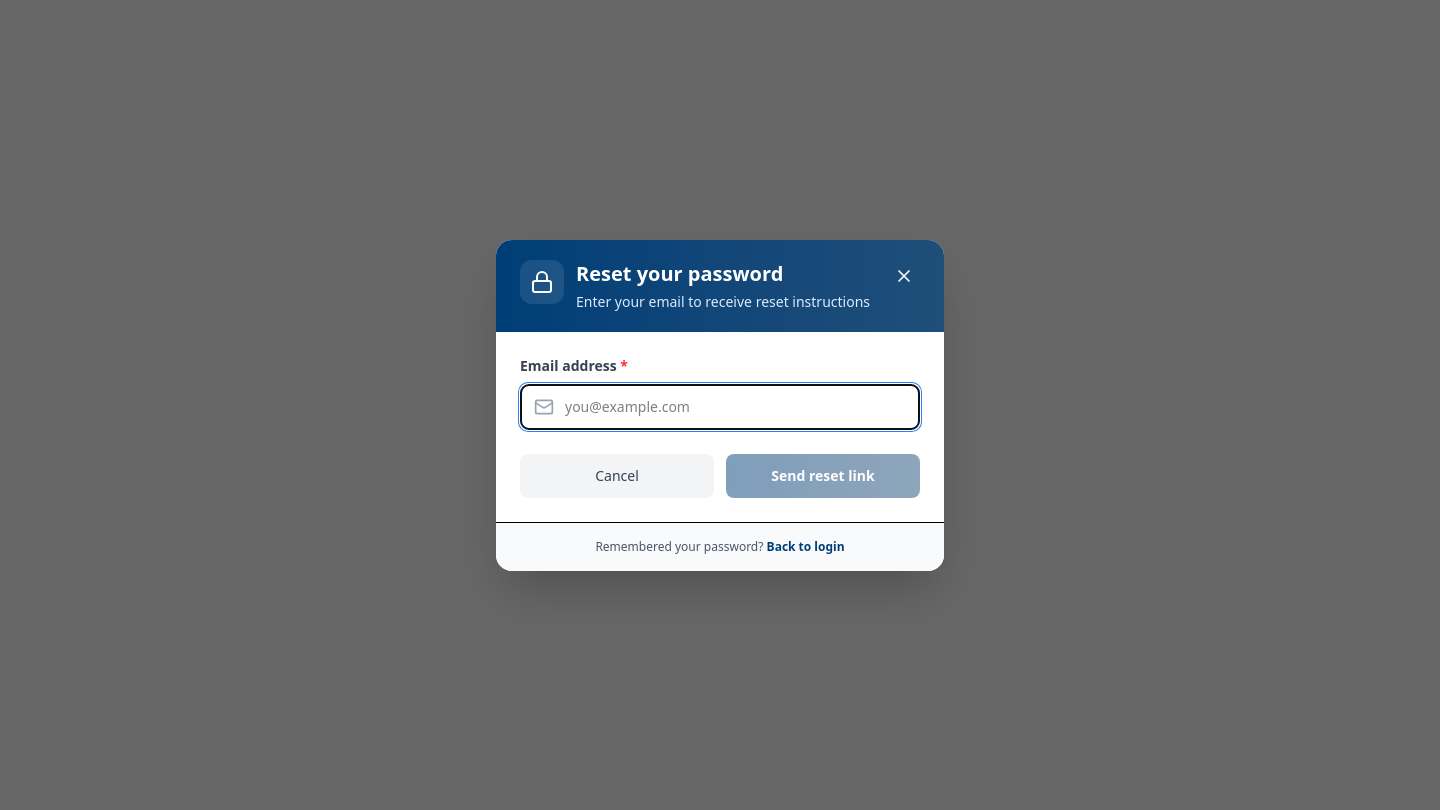
Test: shows error message when API fails
Type "bad@sdsync.com" into the field with placeholder "you@example.com".
click(720, 406); type("bad@sdsync.com")  # box left=520, top=384, right=920, bottom=430
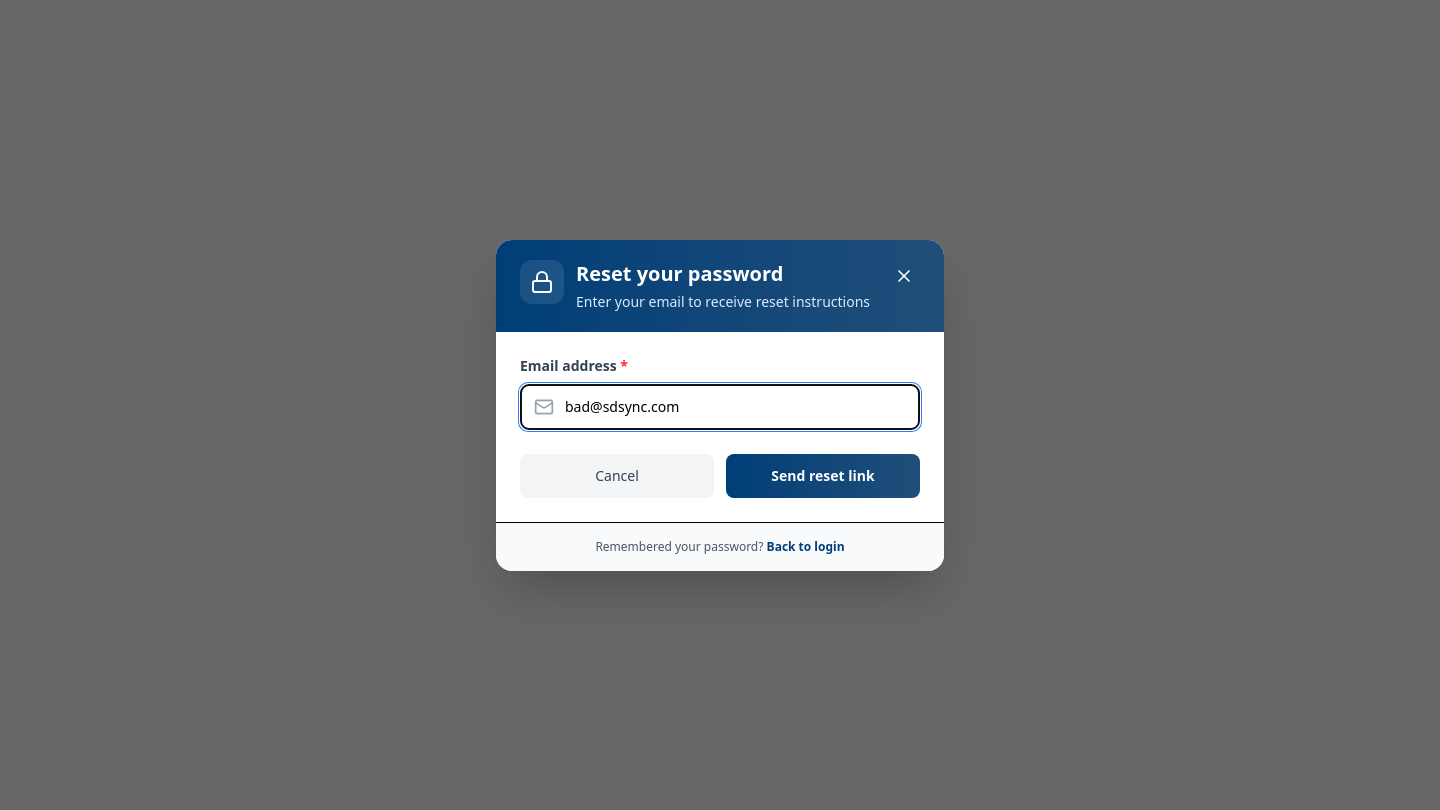
Click the button "Send reset link".
click(823, 476)  # box left=726, top=454, right=920, bottom=498
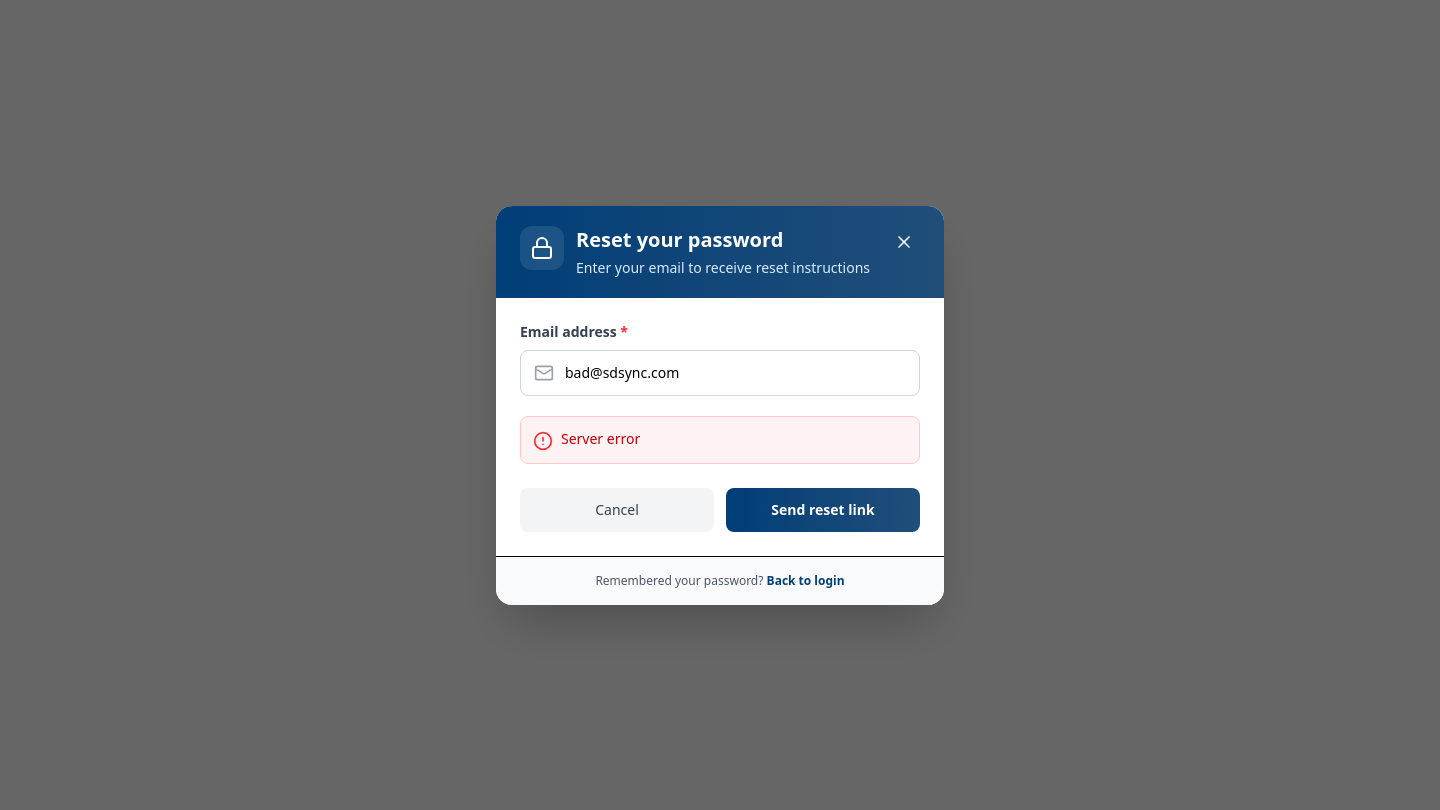
Expected: the text "Server error" is shown, left=561, top=428, right=640, bottom=450
